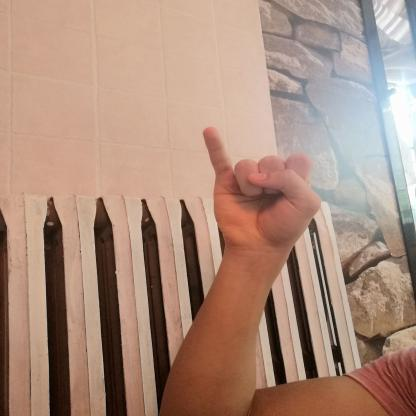MEEM: (189, 116, 335, 261)
